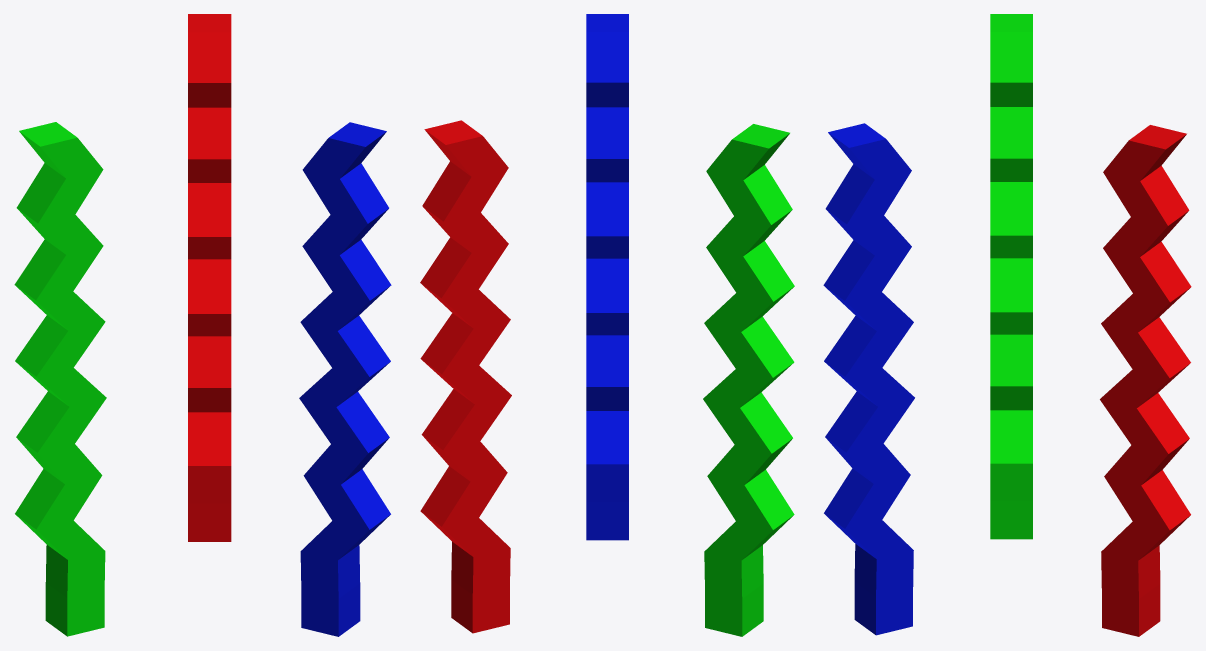
File: carillon.fbx
The picture shows the model from 3 angles, left to right: view 1: azimuth 30°, elevation 25°; view 2: azimuth 150°, elevation 25°; view 3: azimuth 270°, elevation 25°; orthographic projection.
Parts seen in each view (by area): view 1: 큐브, 큐브.001, 큐브.002; view 2: 큐브, 큐브.002, 큐브.001; view 3: 큐브.001, 큐브.002, 큐브.
Boxes of the visible parts, x1=… form: 큐브: x1=14, y1=122, x2=106, y2=636; 큐브.001: x1=299, y1=122, x2=391, y2=636; 큐브.002: x1=188, y1=14, x2=231, y2=541; 큐브: x1=703, y1=124, x2=794, y2=636; 큐브.002: x1=420, y1=120, x2=511, y2=633; 큐브.001: x1=586, y1=14, x2=628, y2=540; 큐브.001: x1=823, y1=123, x2=914, y2=635; 큐브.002: x1=1100, y1=125, x2=1191, y2=636; 큐브: x1=990, y1=14, x2=1032, y2=539.
Size of the model in its own units: 1531 by 2544 by 1719.
